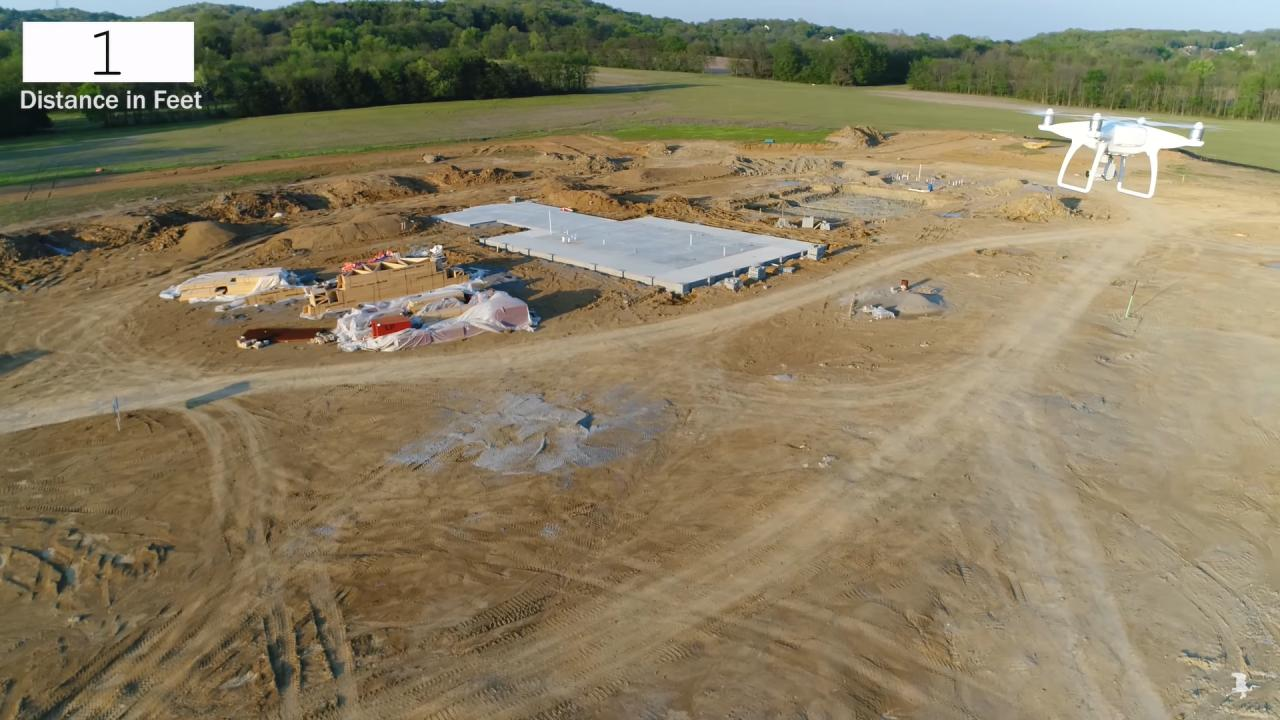Drone: (1018, 93, 1221, 211)
